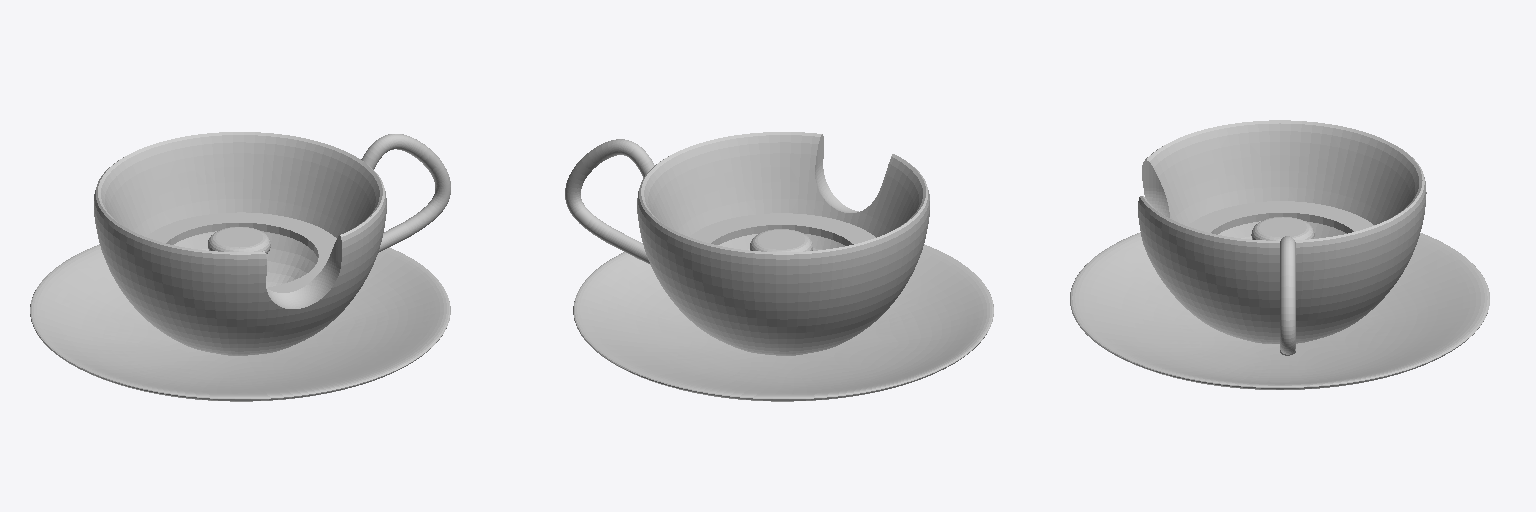
Rendered from TeaCup5.obj.
3 views of the same model, side by side, from view 1: azimuth 30°, elevation 25°; view 2: azimuth 150°, elevation 25°; view 3: azimuth 270°, elevation 25° (orthographic).
Bounding box in the file's own units: 115 × 46.94 × 106.